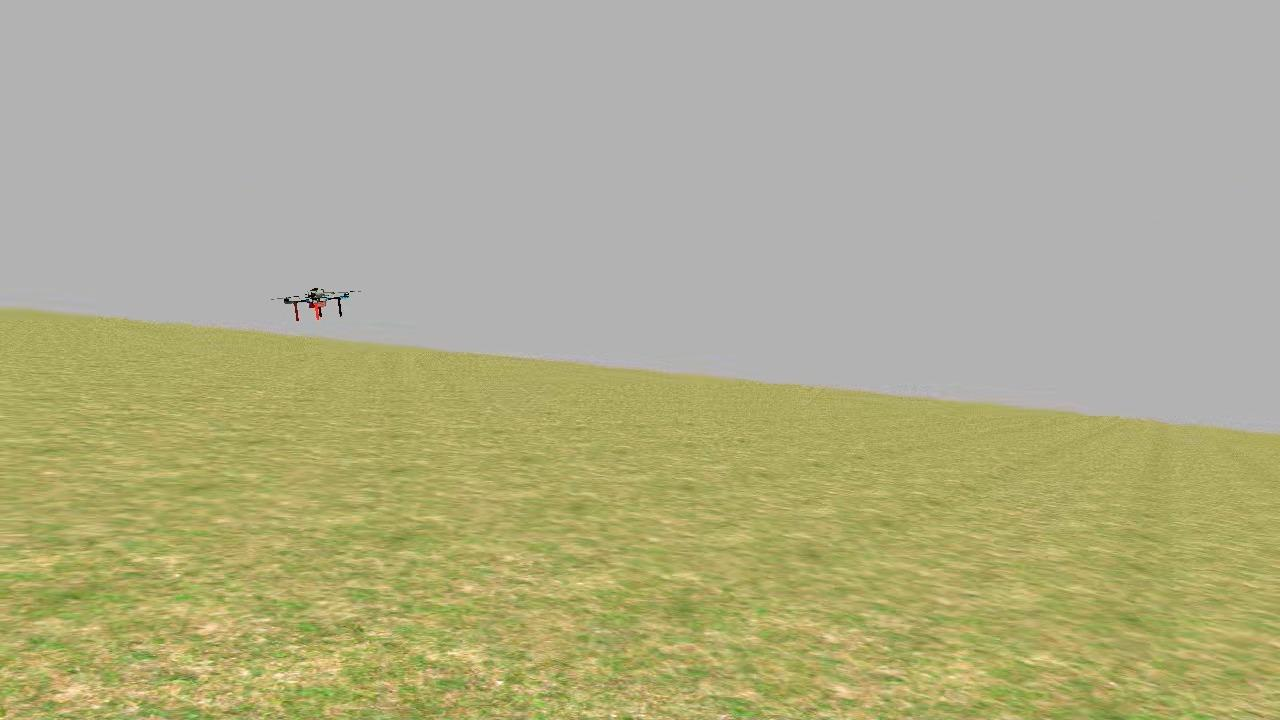UAV: (276, 272, 360, 324)
